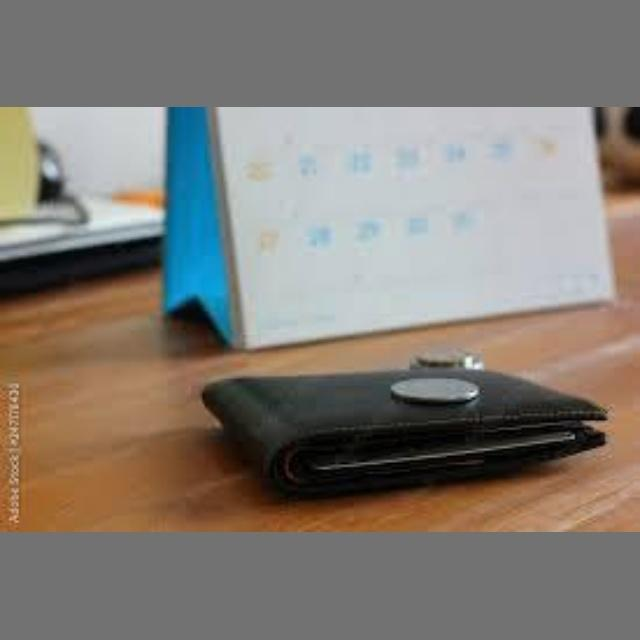Wallet: (194, 340, 640, 496)
